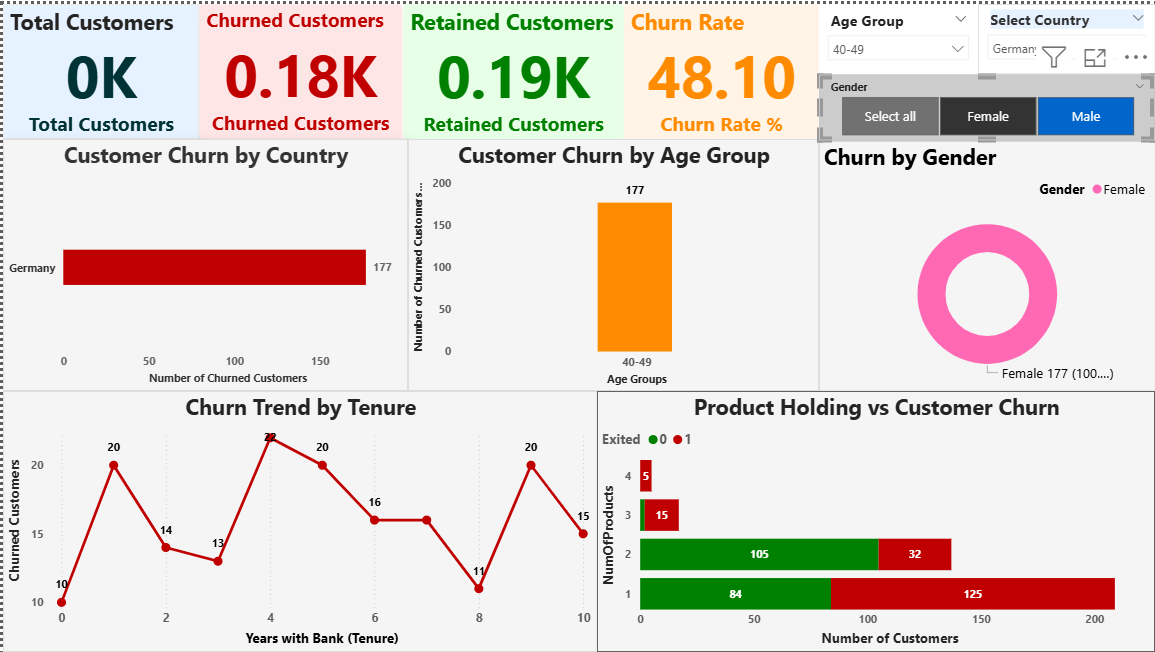

This screenshot's page, from the dashboard's own definition file:
{"tool":"powerbi","page":{"name":"Page 1","canvas":[1280,720],"ordinal":0},"visuals":[{"type":"card","title":"Total Customers","fields":{"Values":["Churn_Modelling.Total Customers"]},"box":[0,0,218.6,150.6],"z":0},{"type":"card","title":"Churned Customers","fields":{"Values":["Churn_Modelling.Churned Customers"]},"box":[218.6,0,225.1,150.6],"z":1000},{"type":"card","title":"Retained Customers","fields":{"Values":["Churn_Modelling.Retained Customers"]},"box":[445.3,0,244.5,150.6],"z":2000},{"type":"card","title":"Churn Rate","fields":{"Values":["Churn_Modelling.Churn Rate %"]},"box":[689.8,0,217,150.6],"z":3000},{"type":"barChart","title":"Customer Churn by Country","fields":{"Category":["Churn_Modelling.Geography"],"Y":["CountNonNull(Churn_Modelling.CustomerId)"]},"box":[0,150.6,450,280],"z":4000},{"type":"clusteredColumnChart","title":"Customer Churn by Age Group","fields":{"Category":["Churn_Modelling.Age Group"],"Y":["CountNonNull(Churn_Modelling.CustomerId)"]},"box":[450.1,150.6,456.6,280.1],"z":5000},{"type":"donutChart","title":"Churn by Gender","fields":{"Category":["Churn_Modelling.Gender"],"Y":["CountNonNull(Churn_Modelling.CustomerId)"]},"box":[906.8,152.2,374,278.5],"z":6000},{"type":"lineChart","title":"Churn Trend by Tenure","fields":{"Category":["Churn_Modelling.Tenure"],"Y":["CountNonNull(Churn_Modelling.CustomerId)"]},"box":[0,430.7,660.6,289.8],"z":7000},{"type":"barChart","title":"Product Holding vs Customer Churn","fields":{"Category":["Churn_Modelling.NumOfProducts"],"Y":["CountNonNull(Churn_Modelling.CustomerId)"],"Series":["Churn_Modelling.Exited"]},"box":[660.6,430.7,620.2,289.8],"z":8000},{"type":"slicer","fields":{"Values":["Churn_Modelling.Geography"]},"box":[1083.3,0,197.5,77.7],"z":9000},{"type":"slicer","fields":{"Values":["Churn_Modelling.Gender"]},"box":[906.8,77.7,374,74.5],"z":10000},{"type":"slicer","fields":{"Values":["Churn_Modelling.Age Group"]},"box":[906.8,1.6,176.5,74.5],"z":11000}]}

Visuals, with their boxes on the page's 1280x720 design canvas (x1, y1, x2, y2). These are canvas units, not pixel positions in the 1155x652 screenshot, which may show the page scaled, cropped or inside an application window:
"Total Customers" card: bbox=[0, 0, 219, 151]
"Churned Customers" card: bbox=[219, 0, 444, 151]
"Retained Customers" card: bbox=[445, 0, 690, 151]
"Churn Rate" card: bbox=[690, 0, 907, 151]
"Customer Churn by Country" barChart: bbox=[0, 151, 450, 431]
"Customer Churn by Age Group" clusteredColumnChart: bbox=[450, 151, 907, 431]
"Churn by Gender" donutChart: bbox=[907, 152, 1281, 431]
"Churn Trend by Tenure" lineChart: bbox=[0, 431, 661, 720]
"Product Holding vs Customer Churn" barChart: bbox=[661, 431, 1281, 720]
slicer - Churn_Modelling.Geography: bbox=[1083, 0, 1281, 78]
slicer - Churn_Modelling.Gender: bbox=[907, 78, 1281, 152]
slicer - Churn_Modelling.Age Group: bbox=[907, 2, 1083, 76]
